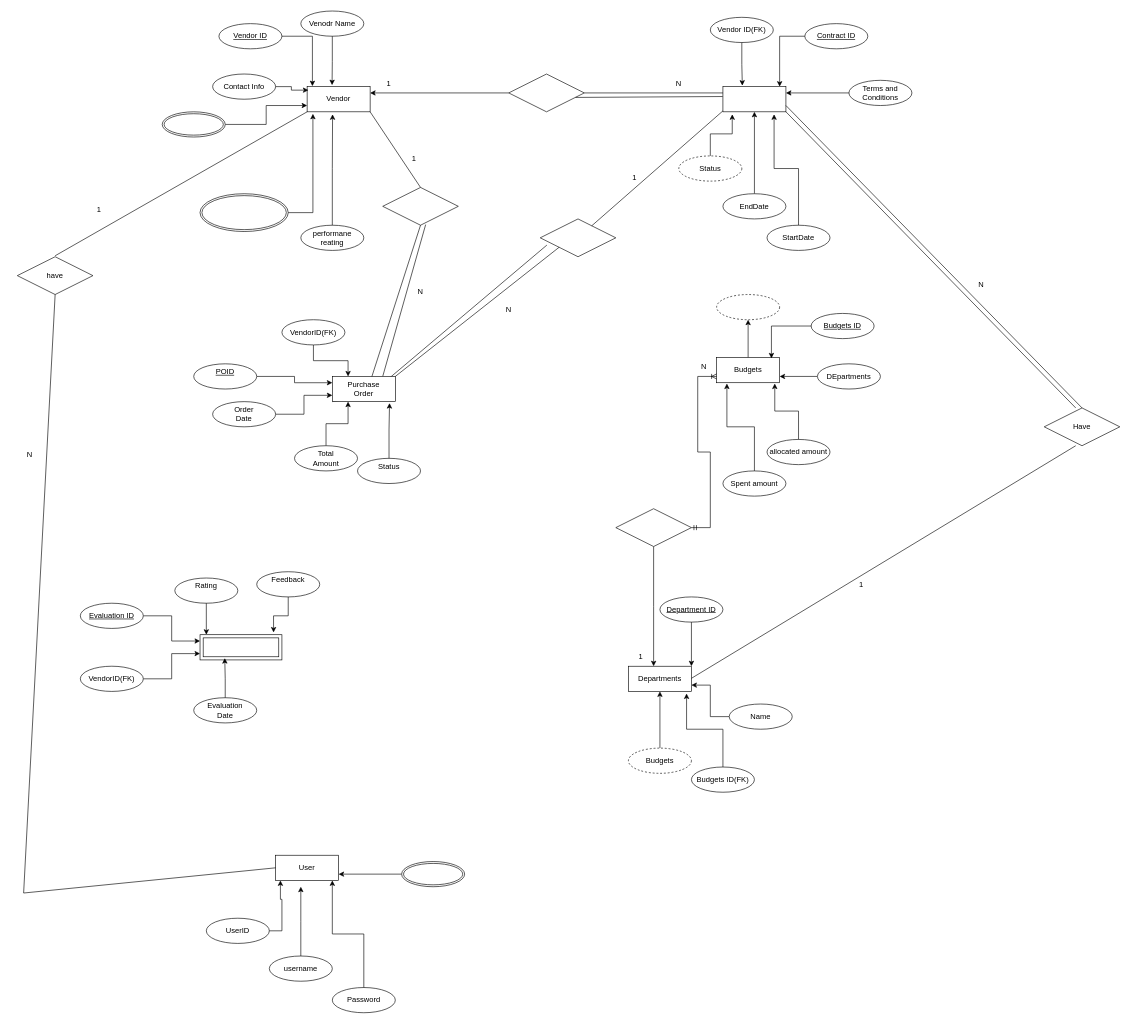
The diagram is 1131 pixels wide and 1024 high, and some of its shapes have lost their labels. The shapes that lost their labels are listed below. From the top down, each one's box as (x1, y1, x2, y2) in pixels, then its label:
(508, 73, 584, 112): Sign
(722, 86, 786, 112): Contract
(162, 111, 225, 137): ServiceCategory
(199, 193, 288, 232): Compliance Certifications
(382, 187, 458, 225): Places
(540, 218, 616, 257): Result
(716, 294, 780, 320): Remaining amount
(615, 508, 691, 547): Allocated
(199, 634, 282, 660): Performance Evaluation
(401, 861, 465, 887): Role
